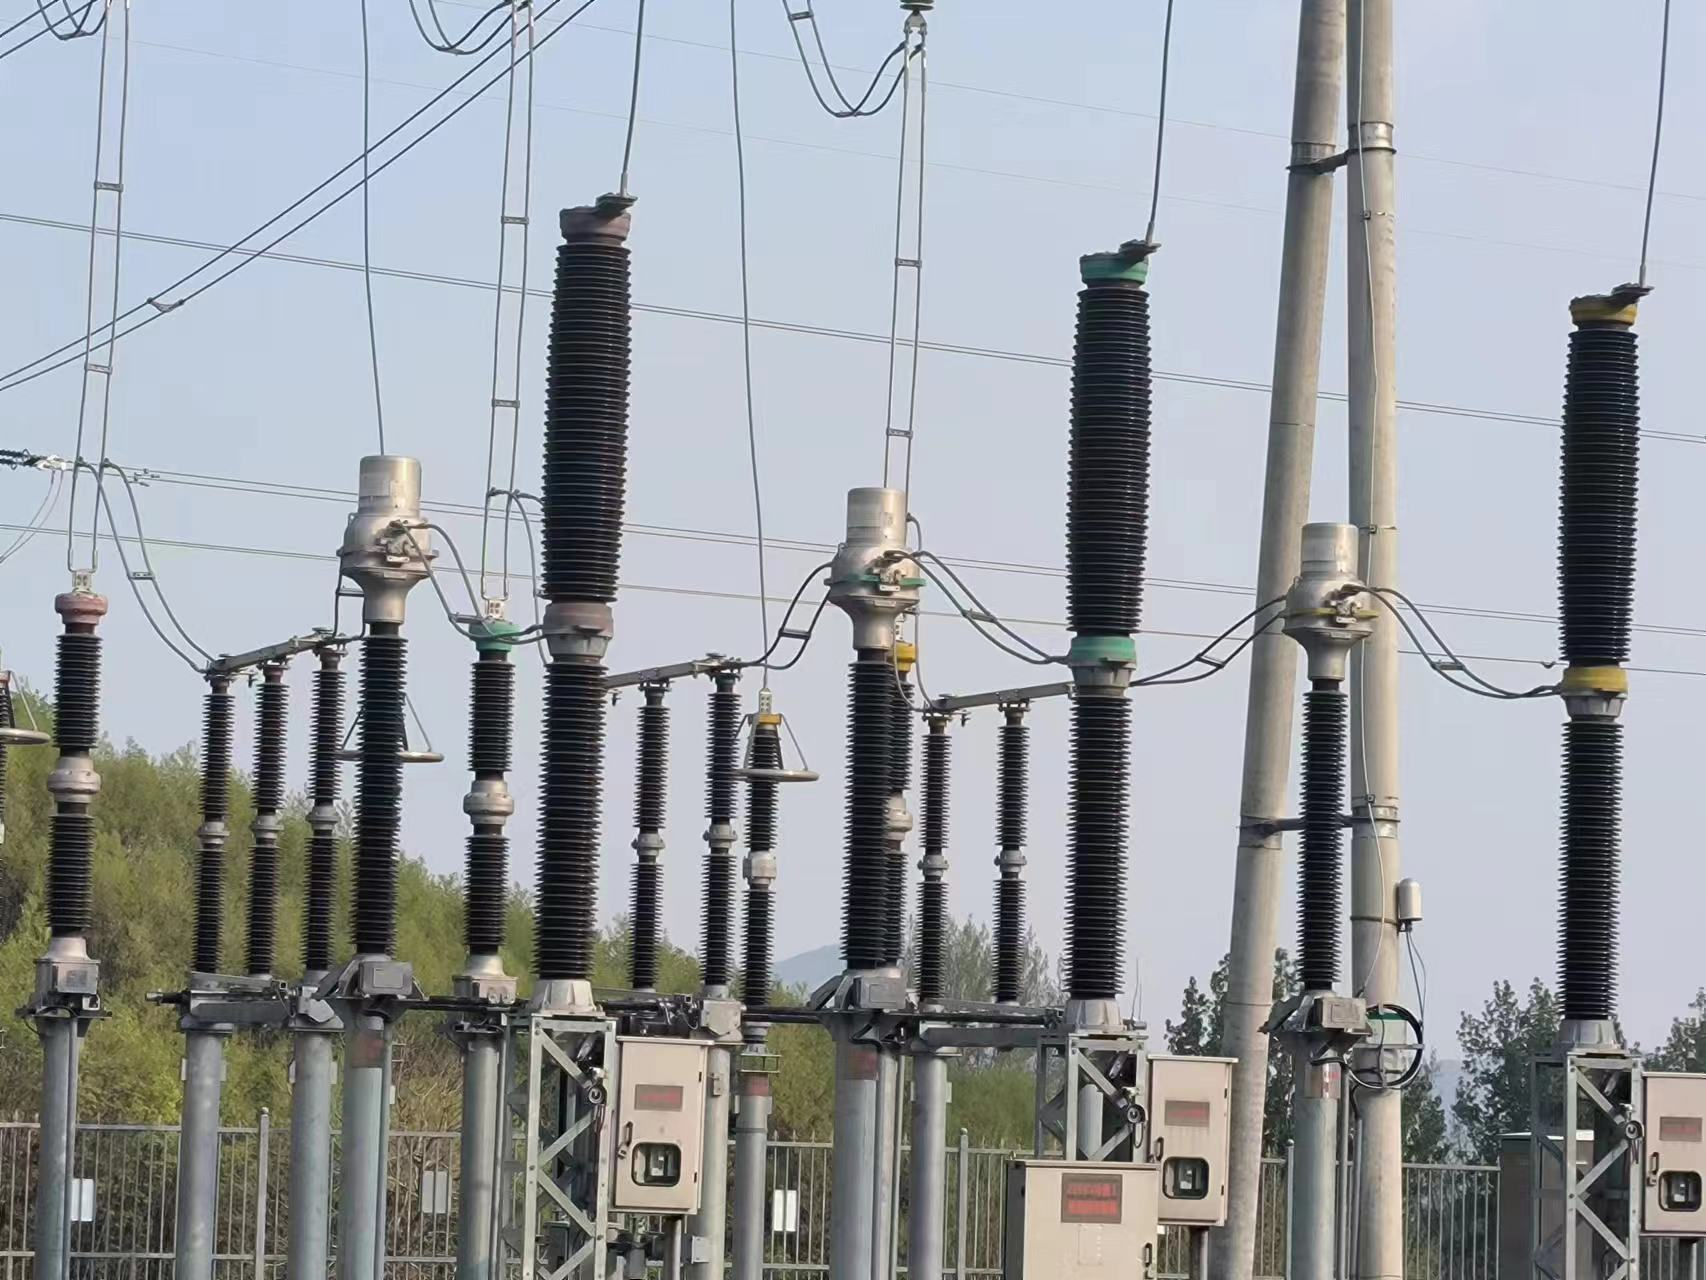Circuit-breaker: (528, 191, 639, 982), (1057, 237, 1164, 1002), (1553, 280, 1656, 1023)
